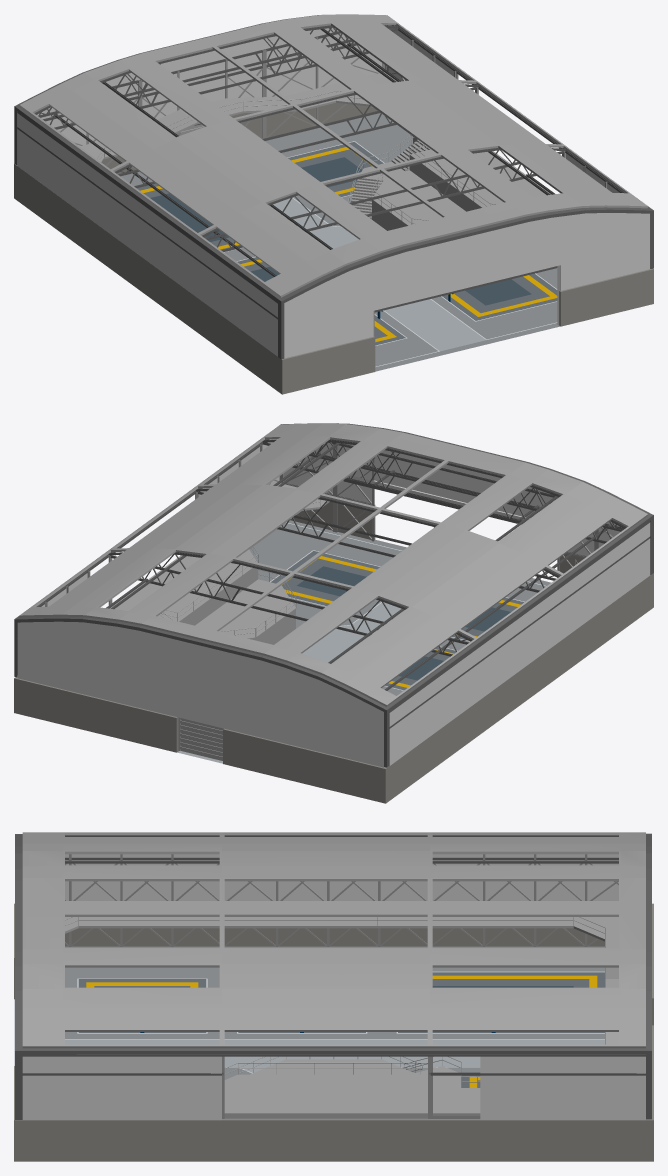
File: Bati_Assemblage_all.fbx
3 renders of one model, top to bottom at view 1: azimuth 30°, elevation 25°; view 2: azimuth 150°, elevation 25°; view 3: azimuth 270°, elevation 25°, orthographic. The views are drawn at different scales.
Visible parts, largest first — view 1: GC_toiture, GC_bardage_01, GC_alege_01, GC_Charpente_metal, Sol_Int_general, GC_Structure_ext, Passerelle_niv_02, GC_bardage_02, Sol_int_allee_centrale, Passerelle_niv_01, GC_int_Structure_metal, Escalier_01 (+9 smaller); view 2: GC_toiture, GC_bardage_01, GC_alege_01, GC_Charpente_metal, GC_Structure_ext, Sol_Int_general, GC_bardage_02, Passerelle_niv_02, Passerelle_niv_01, Sol_int_allee_centrale, GC_int_sous_passerelle, Porte_rideau (+6 smaller); view 3: GC_toiture, GC_alege_01, GC_bardage_01, Passerelle_niv_02, GC_Structure_ext, Sol_Int_general, GC_bardage_02, GC_Charpente_metal, Sol_int_allee_centrale, GC_int_Structure_metal, Passerelle_niv_01, Garde_corps (+5 smaller).
Part boxes in pixels (left/top/right/bottom): GC_toiture: left=19, top=14, right=647, bottom=297; GC_bardage_01: left=17, top=28, right=650, bottom=358; GC_alege_01: left=14, top=102, right=653, bottom=394; GC_Charpente_metal: left=17, top=25, right=624, bottom=319; Sol_Int_general: left=120, top=113, right=560, bottom=371; GC_Structure_ext: left=14, top=15, right=653, bottom=359; Passerelle_niv_02: left=79, top=72, right=551, bottom=208; GC_bardage_02: left=17, top=25, right=619, bottom=317; Sol_int_allee_centrale: left=270, top=198, right=490, bottom=354; Passerelle_niv_01: left=372, top=170, right=465, bottom=226; GC_int_Structure_metal: left=59, top=25, right=607, bottom=336; Escalier_01: left=351, top=139, right=430, bottom=219; GC_toiture: left=19, top=423, right=647, bottom=706; GC_bardage_01: left=17, top=442, right=650, bottom=767; GC_alege_01: left=14, top=501, right=653, bottom=803; GC_Charpente_metal: left=17, top=439, right=650, bottom=728; GC_Structure_ext: left=14, top=423, right=653, bottom=767; Sol_Int_general: left=249, top=520, right=550, bottom=695; GC_bardage_02: left=41, top=439, right=650, bottom=726; Passerelle_niv_02: left=110, top=483, right=329, bottom=622; Passerelle_niv_01: left=195, top=579, right=295, bottom=639; Sol_int_allee_centrale: left=177, top=602, right=404, bottom=763; GC_int_sous_passerelle: left=181, top=568, right=295, bottom=644; Porte_rideau: left=180, top=718, right=223, bottom=761; GC_toiture: left=22, top=832, right=645, bottom=1048; GC_alege_01: left=14, top=903, right=653, bottom=1161; GC_bardage_01: left=22, top=860, right=645, bottom=1120; Passerelle_niv_02: left=65, top=901, right=618, bottom=1115; GC_Structure_ext: left=15, top=833, right=651, bottom=1119; Sol_Int_general: left=14, top=946, right=604, bottom=1079; GC_bardage_02: left=22, top=854, right=645, bottom=1073; GC_Charpente_metal: left=22, top=857, right=645, bottom=1075; Sol_int_allee_centrale: left=14, top=1040, right=604, bottom=1072; GC_int_Structure_metal: left=65, top=854, right=618, bottom=1118; Passerelle_niv_01: left=250, top=1059, right=417, bottom=1074; Garde_corps: left=65, top=917, right=605, bottom=1087.
Bounding box in the file's own units: 4021 × 1209 × 5010.
